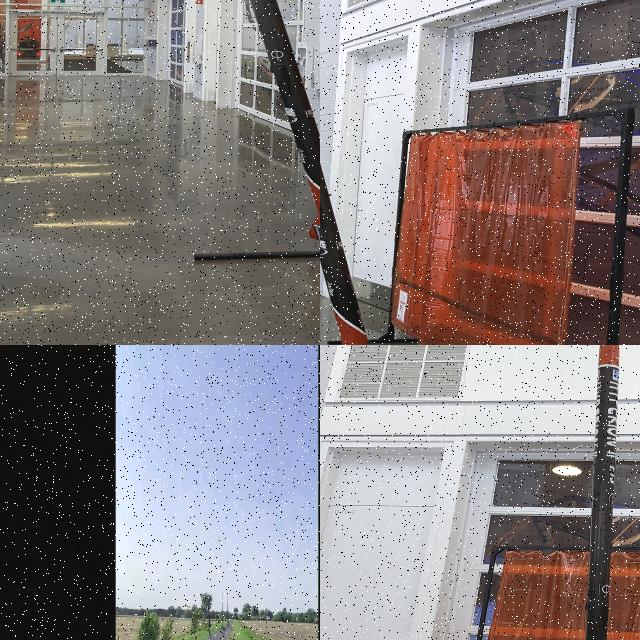Rocket: (250, 0, 320, 241), (585, 345, 620, 640), (320, 163, 369, 345), (208, 603, 211, 628)
